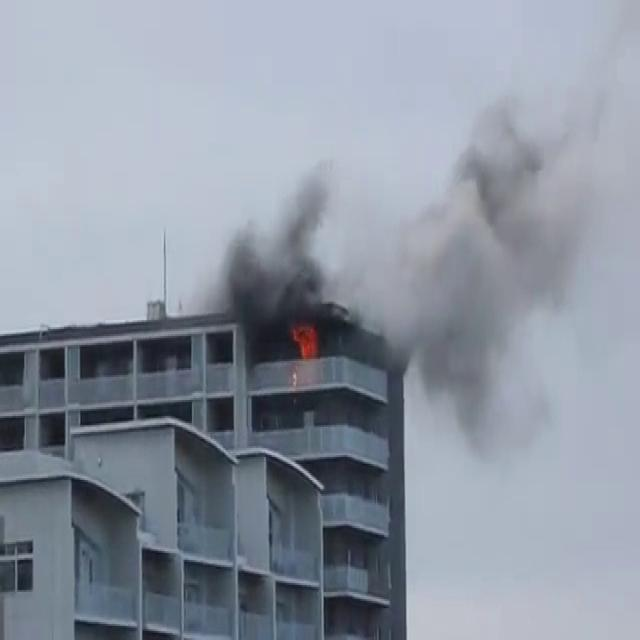Fire: (286, 316, 324, 370)
Smoke: (376, 30, 640, 610), (198, 95, 370, 360)
